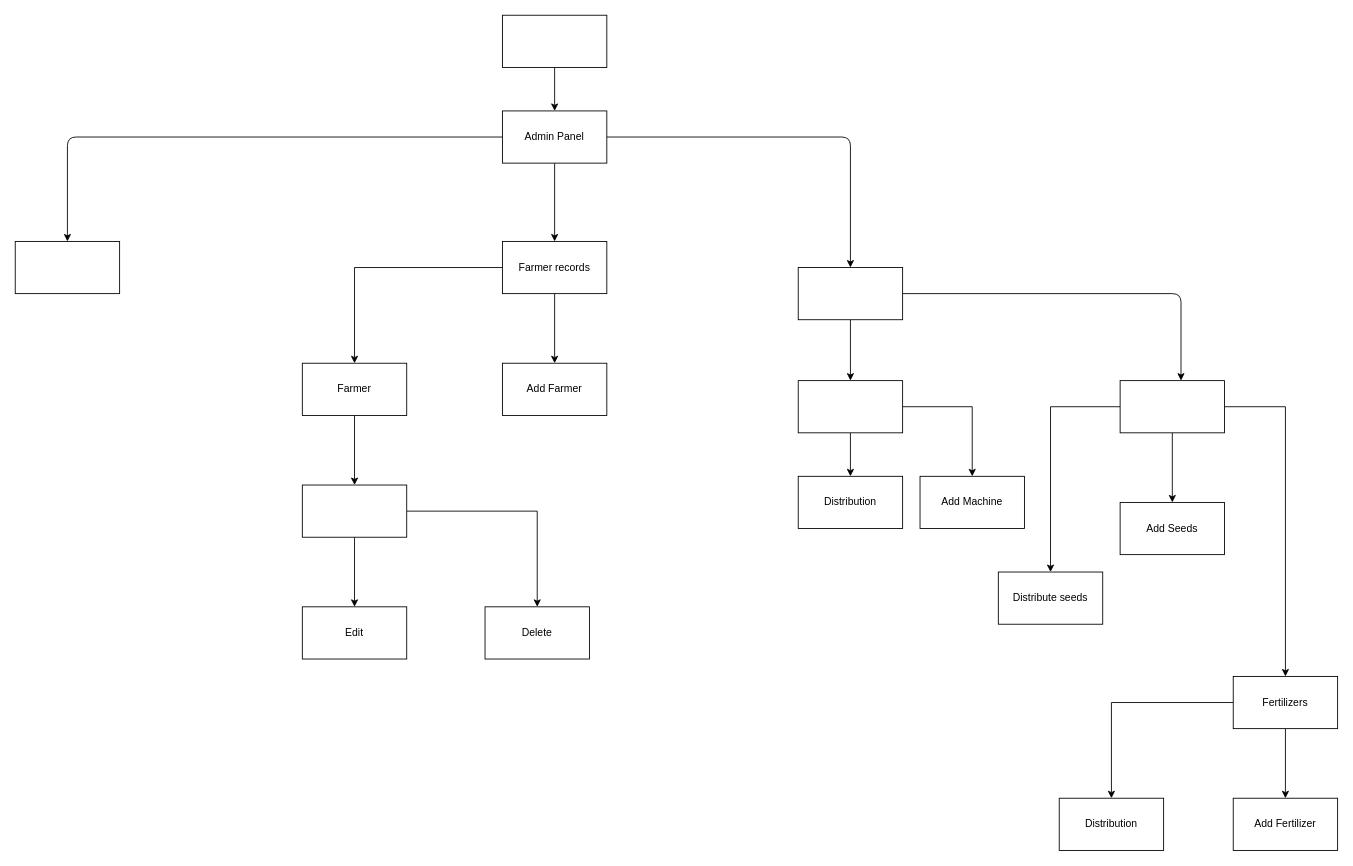
Some shapes in this 1353 by 866 pixel diagram are drawn without their labels. Here are the shapes that lost their labels. From the top down, the centre of each, then its label:
point (554, 40): Log in Page
point (67, 267): Map
point (850, 293): Farming Machineries and Fertilizers
point (850, 406): Machineries
point (1172, 406): Seeds
point (354, 510): Profile
